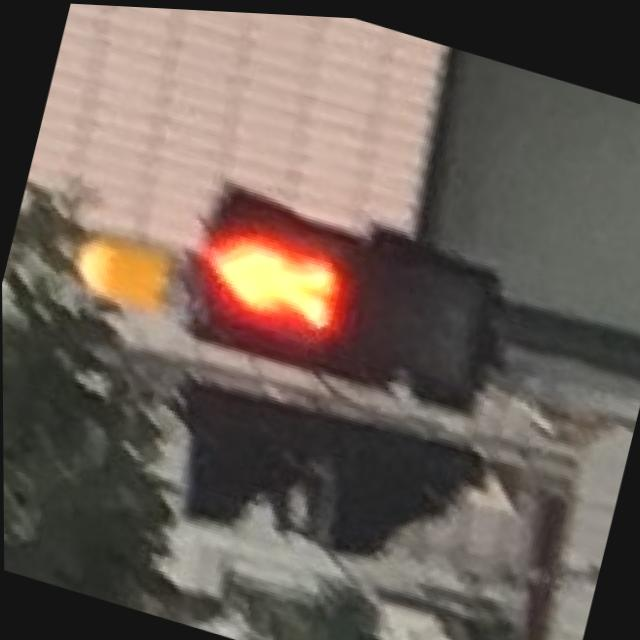red_light: (187, 196, 367, 362)
